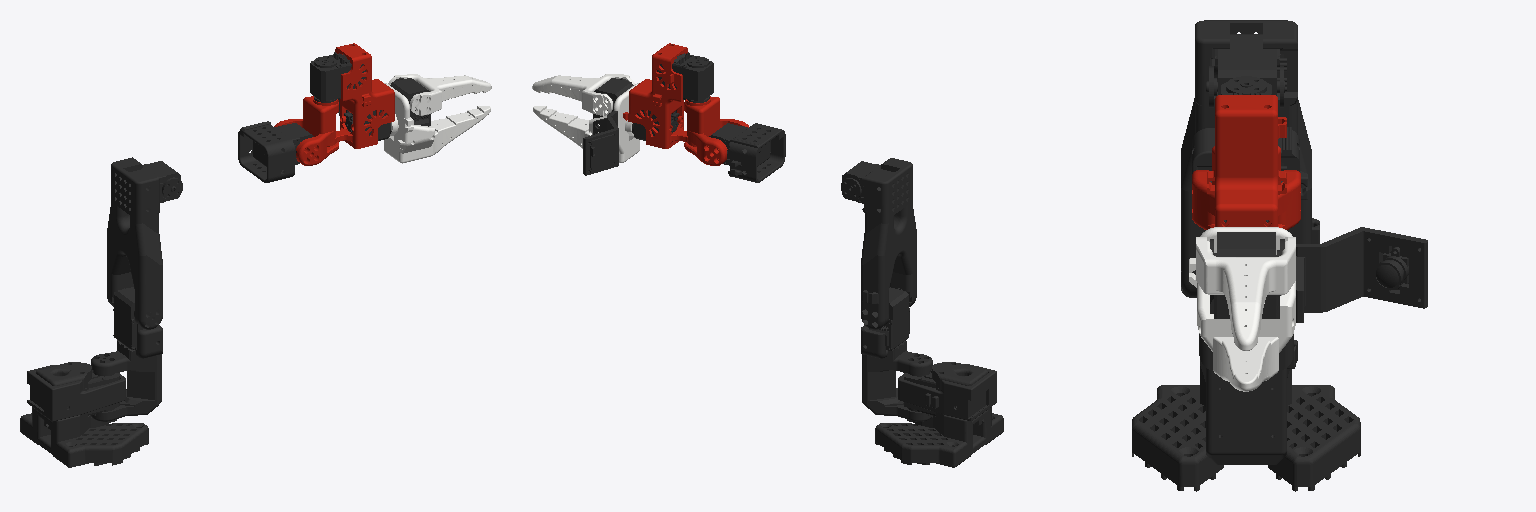
robot.urdf — so101_yaw:
<?xml version="1.0" ?>
<!-- Generated using onshape-to-robot -->
<!-- Onshape https://cad.onshape.com/documents/5c7655f7a10be258b255653e/w/9b7cf7340f5f742e2d847e84/e/661a4991913bb205efad3807 -->
<robot name="so101_yaw">
  <!-- Link base_so101_v2 -->
  <link name="base_so101_v2">
    <inertial>
      <origin rpy="0 0 0" xyz="-0.00654505 -0.0274557 0.034086"/>
      <mass value="0.151"/>
      <inertia ixx="0.00012688" ixy="-5.94796e-07" ixz="2.98671e-06" iyy="0.000135694" iyz="-6.97256e-08" izz="0.000132445"/>
    </inertial>
    <visual>
      <origin rpy="-1.89638e-16 -7.4744e-16 -3.26128e-15" xyz="0.00489886 -0.0272511 0.0461"/>
      <geometry>
        <mesh filename="assets/sts3215.stl"/>
      </geometry>
      <material name="sts3215_material">
        <color rgba="0.235294 0.235294 0.235294 1"/>
      </material>
    </visual>
    <collision>
      <origin rpy="-1.89638e-16 -7.4744e-16 -3.26128e-15" xyz="0.00489886 -0.0272511 0.0461"/>
      <geometry>
        <mesh filename="assets/sts3215.stl"/>
      </geometry>
    </collision>
    <visual>
      <origin rpy="1.5708 7.86155e-17 1.5708" xyz="-0.0275011 -0.0276006 1.33995e-16"/>
      <geometry>
        <mesh filename="assets/base_motor_holder_so101_v1.stl"/>
      </geometry>
      <material name="base_motor_holder_so101_v1_material">
        <color rgba="0.235294 0.235294 0.235294 1"/>
      </material>
    </visual>
    <collision>
      <origin rpy="1.5708 7.86155e-17 1.5708" xyz="-0.0275011 -0.0276006 1.33995e-16"/>
      <geometry>
        <mesh filename="assets/base_motor_holder_so101_v1.stl"/>
      </geometry>
    </collision>
    <visual>
      <origin rpy="1.5708 7.86155e-17 1.5708" xyz="-0.0275011 -0.0275011 7.15369e-17"/>
      <geometry>
        <mesh filename="assets/base_so101_v2.stl"/>
      </geometry>
      <material name="base_so101_v2_material">
        <color rgba="0.235294 0.235294 0.235294 1"/>
      </material>
    </visual>
    <collision>
      <origin rpy="1.5708 7.86155e-17 1.5708" xyz="-0.0275011 -0.0275011 7.15369e-17"/>
      <geometry>
        <mesh filename="assets/base_so101_v2.stl"/>
      </geometry>
    </collision>
  </link>
  <!-- Link rotation_pitch_so101_v1 -->
  <link name="rotation_pitch_so101_v1">
    <inertial>
      <origin rpy="0 0 0" xyz="0.0309888 5.41298e-05 -0.0231919"/>
      <mass value="0.102"/>
      <inertia ixx="9.02965e-05" ixy="7.51737e-08" ixz="1.45988e-06" iyy="8.80808e-05" iyz="-1.36387e-07" izz="2.50511e-05"/>
    </inertial>
    <visual>
      <origin rpy="-1.5708 -1.5708 0" xyz="0.0678 0.0002 0.0158499"/>
      <geometry>
        <mesh filename="assets/motor_holder_so101_base_v1.stl"/>
      </geometry>
      <material name="motor_holder_so101_base_v1_material">
        <color rgba="0.235294 0.235294 0.235294 1"/>
      </material>
    </visual>
    <collision>
      <origin rpy="-1.5708 -1.5708 0" xyz="0.0678 0.0002 0.0158499"/>
      <geometry>
        <mesh filename="assets/motor_holder_so101_base_v1.stl"/>
      </geometry>
    </collision>
    <visual>
      <origin rpy="-1.5708 -3.89251e-16 3.14159" xyz="-0.012 1.73472e-17 0.0464"/>
      <geometry>
        <mesh filename="assets/rotation_pitch_so101_v1.stl"/>
      </geometry>
      <material name="rotation_pitch_so101_v1_material">
        <color rgba="0.235294 0.235294 0.235294 1"/>
      </material>
    </visual>
    <collision>
      <origin rpy="-1.5708 -3.89251e-16 3.14159" xyz="-0.012 1.73472e-17 0.0464"/>
      <geometry>
        <mesh filename="assets/rotation_pitch_so101_v1.stl"/>
      </geometry>
    </collision>
    <visual>
      <origin rpy="-1.5708 1.5708 0" xyz="0.0306 -0.0004 -0.0417"/>
      <geometry>
        <mesh filename="assets/sts3215.stl"/>
      </geometry>
      <material name="sts3215_2_material">
        <color rgba="0.235294 0.235294 0.235294 1"/>
      </material>
    </visual>
    <collision>
      <origin rpy="-1.5708 1.5708 0" xyz="0.0306 -0.0004 -0.0417"/>
      <geometry>
        <mesh filename="assets/sts3215.stl"/>
      </geometry>
    </collision>
  </link>
  <!-- Link upper_arm_so101_v1 -->
  <link name="upper_arm_so101_v1">
    <inertial>
      <origin rpy="0 0 0" xyz="0.0875462 0.00769199 0.0183923"/>
      <mass value="0.106"/>
      <inertia ixx="4.29162e-05" ixy="-2.05885e-05" ixz="8.97322e-08" iyy="0.000159358" iyz="-1.79716e-08" izz="0.00015251"/>
    </inertial>
    <visual>
      <origin rpy="-3.14159 -1.11022e-16 1.5708" xyz="0.11257 0.0155 0.0187"/>
      <geometry>
        <mesh filename="assets/sts3215.stl"/>
      </geometry>
      <material name="sts3215_3_material">
        <color rgba="0.235294 0.235294 0.235294 1"/>
      </material>
    </visual>
    <collision>
      <origin rpy="-3.14159 -1.11022e-16 1.5708" xyz="0.11257 0.0155 0.0187"/>
      <geometry>
        <mesh filename="assets/sts3215.stl"/>
      </geometry>
    </collision>
    <visual>
      <origin rpy="3.14159 -1.11022e-16 -3.14159" xyz="0.065085 -0.012 0.0182"/>
      <geometry>
        <mesh filename="assets/upper_arm_so101_v1.stl"/>
      </geometry>
      <material name="upper_arm_so101_v1_material">
        <color rgba="0.235294 0.235294 0.235294 1"/>
      </material>
    </visual>
    <collision>
      <origin rpy="3.14159 -1.11022e-16 -3.14159" xyz="0.065085 -0.012 0.0182"/>
      <geometry>
        <mesh filename="assets/upper_arm_so101_v1.stl"/>
      </geometry>
    </collision>
  </link>
  <!-- Link under_arm_so101_v1 -->
  <link name="under_arm_so101_v1">
    <inertial>
      <origin rpy="0 0 0" xyz="0.0953096 -0.00302426 0.0182473"/>
      <mass value="0.11"/>
      <inertia ixx="3.24107e-05" ixy="8.01383e-06" ixz="-1.40404e-06" iyy="0.000176111" iyz="4.66378e-08" izz="0.000159352"/>
    </inertial>
    <visual>
      <origin rpy="-3.14159 -8.3322e-16 3.14159" xyz="0.0648499 0.032 0.0182"/>
      <geometry>
        <mesh filename="assets/under_arm_so101_v1.stl"/>
      </geometry>
      <material name="under_arm_so101_v1_material">
        <color rgba="0.235294 0.235294 0.235294 1"/>
      </material>
    </visual>
    <collision>
      <origin rpy="-3.14159 -8.3322e-16 3.14159" xyz="0.0648499 0.032 0.0182"/>
      <geometry>
        <mesh filename="assets/under_arm_so101_v1.stl"/>
      </geometry>
    </collision>
    <visual>
      <origin rpy="3.14159 1.38833e-15 -7.17499e-14" xyz="0.1224 -0.0052 0.0187"/>
      <geometry>
        <mesh filename="assets/sts3215.stl"/>
      </geometry>
      <material name="sts3215_4_material">
        <color rgba="0.235294 0.235294 0.235294 1"/>
      </material>
    </visual>
    <collision>
      <origin rpy="3.14159 1.38833e-15 -7.17499e-14" xyz="0.1224 -0.0052 0.0187"/>
      <geometry>
        <mesh filename="assets/sts3215.stl"/>
      </geometry>
    </collision>
    <visual>
      <origin rpy="-3.14159 -1.15366e-15 3.14159" xyz="0.0648499 0.032 0.018"/>
      <geometry>
        <mesh filename="assets/motor_holder_so101_wrist_v1.stl"/>
      </geometry>
      <material name="motor_holder_so101_wrist_v1_material">
        <color rgba="0.235294 0.235294 0.235294 1"/>
      </material>
    </visual>
    <collision>
      <origin rpy="-3.14159 -1.15366e-15 3.14159" xyz="0.0648499 0.032 0.018"/>
      <geometry>
        <mesh filename="assets/motor_holder_so101_wrist_v1.stl"/>
      </geometry>
    </collision>
  </link>
  <!-- Link wrist_yaw_back_v2 -->
  <link name="wrist_yaw_back_v2">
    <inertial>
      <origin rpy="0 0 0" xyz="0.0170191 -0.00963991 0.0183001"/>
      <mass value="0.02"/>
      <inertia ixx="8.43061e-06" ixy="1.40805e-06" ixz="3.45132e-11" iyy="6.67798e-06" iyz="-5.27682e-11" izz="6.60703e-06"/>
    </inertial>
    <visual>
      <origin rpy="-1.5708 2.71835e-16 -3.14159" xyz="-8.32667e-17 2.77556e-17 0.0183"/>
      <geometry>
        <mesh filename="assets/wrist_yaw_back_v2.stl"/>
      </geometry>
      <material name="wrist_yaw_back_v2_material">
        <color rgba="0.756863 0.180392 0.121569 1"/>
      </material>
    </visual>
    <collision>
      <origin rpy="-1.5708 2.71835e-16 -3.14159" xyz="-8.32667e-17 2.77556e-17 0.0183"/>
      <geometry>
        <mesh filename="assets/wrist_yaw_back_v2.stl"/>
      </geometry>
    </collision>
  </link>
  <!-- Link wrist_yaw_front_v2 -->
  <link name="wrist_yaw_front_v2">
    <inertial>
      <origin rpy="0 0 0" xyz="-0.0288469 3.2095e-05 0.00318547"/>
      <mass value="0.14"/>
      <inertia ixx="9.23015e-05" ixy="4.59386e-08" ixz="3.54146e-05" iyy="0.000129134" iyz="2.4354e-08" izz="5.50963e-05"/>
    </inertial>
    <visual>
      <origin rpy="-9.1624e-32 1.59776e-24 2.1032e-30" xyz="-0.0125 0 -0.0187"/>
      <geometry>
        <mesh filename="assets/sts3215.stl"/>
      </geometry>
      <material name="sts3215_5_material">
        <color rgba="0.235294 0.235294 0.235294 1"/>
      </material>
    </visual>
    <collision>
      <origin rpy="-9.1624e-32 1.59776e-24 2.1032e-30" xyz="-0.0125 0 -0.0187"/>
      <geometry>
        <mesh filename="assets/sts3215.stl"/>
      </geometry>
    </collision>
    <visual>
      <origin rpy="8.70125e-30 -1.5708 0" xyz="-0.0428 3.08781e-16 0.025043"/>
      <geometry>
        <mesh filename="assets/sts3215.stl"/>
      </geometry>
      <material name="sts3215_6_material">
        <color rgba="0.235294 0.235294 0.235294 1"/>
      </material>
    </visual>
    <collision>
      <origin rpy="8.70125e-30 -1.5708 0" xyz="-0.0428 3.08781e-16 0.025043"/>
      <geometry>
        <mesh filename="assets/sts3215.stl"/>
      </geometry>
    </collision>
    <visual>
      <origin rpy="-3.14159 1.28026e-16 -3.14159" xyz="-0.0283 1.17961e-16 0.0037965"/>
      <geometry>
        <mesh filename="assets/wrist_yaw_front_v2.stl"/>
      </geometry>
      <material name="wrist_yaw_front_v2_material">
        <color rgba="0.756863 0.180392 0.121569 1"/>
      </material>
    </visual>
    <collision>
      <origin rpy="-3.14159 1.28026e-16 -3.14159" xyz="-0.0283 1.17961e-16 0.0037965"/>
      <geometry>
        <mesh filename="assets/wrist_yaw_front_v2.stl"/>
      </geometry>
    </collision>
  </link>
  <!-- Link gripper_body -->
  <link name="gripper_body">
    <inertial>
      <origin rpy="0 0 0" xyz="-0.000636413 -0.00019243 -0.02101"/>
      <mass value="0.086"/>
      <inertia ixx="1.74109e-05" ixy="-2.64933e-07" ixz="-4.56581e-08" iyy="3.13894e-05" iyz="-1.1459e-07" izz="3.52206e-05"/>
    </inertial>
    <visual>
      <origin rpy="3.14159 8.40848e-16 -3.14009" xyz="-3.27883e-07 0.000218214 0.000949706"/>
      <geometry>
        <mesh filename="assets/wrist_roll_follower_so101_v1.stl"/>
      </geometry>
      <material name="wrist_roll_follower_so101_v1_material">
        <color rgba="0.964706 0.964706 0.952941 1"/>
      </material>
    </visual>
    <collision>
      <origin rpy="3.14159 8.40848e-16 -3.14009" xyz="-3.27883e-07 0.000218214 0.000949706"/>
      <geometry>
        <mesh filename="assets/wrist_roll_follower_so101_v1.stl"/>
      </geometry>
    </collision>
    <visual>
      <origin rpy="-1.5708 8.40848e-16 -3.14009" xyz="-0.00770014 8.84301e-05 -0.0234"/>
      <geometry>
        <mesh filename="assets/sts3215.stl"/>
      </geometry>
      <material name="sts3215_7_material">
        <color rgba="0.235294 0.235294 0.235294 1"/>
      </material>
    </visual>
    <collision>
      <origin rpy="-1.5708 8.40848e-16 -3.14009" xyz="-0.00770014 8.84301e-05 -0.0234"/>
      <geometry>
        <mesh filename="assets/sts3215.stl"/>
      </geometry>
    </collision>
  </link>
  <!-- Link moving_jaw_so101_v1 -->
  <link name="moving_jaw_so101_v1">
    <inertial>
      <origin rpy="0 0 0" xyz="-0.000643301 -0.0295336 0.0192755"/>
      <mass value="0.013"/>
      <inertia ixx="7.16516e-06" ixy="-3.48625e-07" ixz="-6.44988e-09" iyy="2.04814e-06" iyz="-1.19105e-07" izz="5.72799e-06"/>
    </inertial>
    <visual>
      <origin rpy="1.26318e-15 2.09969e-14 -0.000423662" xyz="0.000944371 0.000490203 0.0189"/>
      <geometry>
        <mesh filename="assets/moving_jaw_so101_v1.stl"/>
      </geometry>
      <material name="moving_jaw_so101_v1_material">
        <color rgba="0.964706 0.964706 0.952941 1"/>
      </material>
    </visual>
    <collision>
      <origin rpy="1.26318e-15 2.09969e-14 -0.000423662" xyz="0.000944371 0.000490203 0.0189"/>
      <geometry>
        <mesh filename="assets/moving_jaw_so101_v1.stl"/>
      </geometry>
    </collision>
  </link>
  <!-- Link camera_mount -->
  <link name="camera_mount">
    <inertial>
      <origin rpy="0 0 0" xyz="-0.0224746 -0.00102293 -0.0255423"/>
      <mass value="0.012"/>
      <inertia ixx="5.52533e-06" ixy="9.51953e-08" ixz="-1.32316e-06" iyy="5.31978e-06" iyz="1.20372e-07" izz="2.25715e-06"/>
    </inertial>
    <visual>
      <origin rpy="-1.5708 -1.5708 0" xyz="0.00815 -0.0181 -2.1684e-18"/>
      <geometry>
        <mesh filename="assets/camera_mount.stl"/>
      </geometry>
      <material name="camera_mount_material">
        <color rgba="0.235294 0.235294 0.235294 1"/>
      </material>
    </visual>
    <collision>
      <origin rpy="-1.5708 -1.5708 0" xyz="0.00815 -0.0181 -2.1684e-18"/>
      <geometry>
        <mesh filename="assets/camera_mount.stl"/>
      </geometry>
    </collision>
  </link>
  <!-- Link camera_body -->
  <link name="camera_body">
    <inertial>
      <origin rpy="0 0 0" xyz="0 0 0"/>
      <mass value="1e-09"/>
      <inertia ixx="1e-09" ixy="0" ixz="0" iyy="1e-09" iyz="0" izz="1e-09"/>
    </inertial>
    <visual>
      <origin rpy="1.5708 -7.23838e-20 1.5708" xyz="0 -0.0495931 -0.000795328"/>
      <geometry>
        <mesh filename="assets/camera_uvc_25x32.stl"/>
      </geometry>
      <material name="camera_uvc_25x32_material">
        <color rgba="0.235294 0.235294 0.235294 1"/>
      </material>
    </visual>
    <collision>
      <origin rpy="1.5708 -7.23838e-20 1.5708" xyz="0 -0.0495931 -0.000795328"/>
      <geometry>
        <mesh filename="assets/camera_uvc_25x32.stl"/>
      </geometry>
    </collision>
  </link>
  <!-- Link camera -->
  <link name="camera">
    <inertial>
      <origin rpy="0 0 0" xyz="0 0 0"/>
      <mass value="1e-9"/>
      <inertia ixx="0" ixy="0" ixz="0" iyy="0" iyz="0" izz="0"/>
    </inertial>
  </link>
  <!-- Link gripper_finger -->
  <link name="gripper_finger">
    <inertial>
      <origin rpy="0 0 0" xyz="0.0141183 3.81789e-08 -0.0214088"/>
      <mass value="0.031"/>
      <inertia ixx="9.74177e-06" ixy="4.91362e-12" ixz="1.93091e-06" iyy="9.76828e-06" iyz="7.01388e-12" izz="2.30933e-06"/>
    </inertial>
    <visual>
      <origin rpy="-3.14159 6.05824e-16 3.64596e-16" xyz="0.0352 -4.66814e-14 0.038"/>
      <geometry>
        <mesh filename="assets/wrist_roll_follower_so101_v1__2.stl"/>
      </geometry>
      <material name="wrist_roll_follower_so101_v1_2_material">
        <color rgba="0.964706 0.964706 0.952941 1"/>
      </material>
    </visual>
    <collision>
      <origin rpy="-3.14159 6.05824e-16 3.64596e-16" xyz="0.0352 -4.66814e-14 0.038"/>
      <geometry>
        <mesh filename="assets/wrist_roll_follower_so101_v1__2.stl"/>
      </geometry>
    </collision>
  </link>

  <!-- Joints -->
  <joint name="joint7" type="revolute">
    <origin rpy="1.5708 8.40848e-16 -3.14009" xyz="-0.020172 -0.0186303 -0.0234"/>
    <parent link="gripper_body"/>
    <child link="moving_jaw_so101_v1"/>
    <axis xyz="0 0 1"/>
    <limit effort="10" lower="-0.174109" upper="1.74575" velocity="10"/>
  </joint>
  <joint name="camera_frame" type="fixed">
    <origin rpy="7.23838e-20 -2.65658e-17 1.24493e-19" xyz="0.0134 0.000203456 -0.000397664"/>
    <parent link="camera_body"/>
    <child link="camera"/>
  </joint>
  <joint name="camera_joint" type="fixed">
    <origin rpy="3.14159 -0.436332 5.4113e-20" xyz="-0.0299654 -0.0006 -0.0493488"/>
    <parent link="camera_mount"/>
    <child link="camera_body"/>
  </joint>
  <joint name="camera_mount_joint" type="fixed">
    <origin rpy="-1.5723 1.5708 0" xyz="-0.00306393 -0.0240046 -0.0234002"/>
    <parent link="gripper_body"/>
    <child link="camera_mount"/>
  </joint>
  <joint name="joint8" type="fixed">
    <origin rpy="-1.0267e-14 8.40848e-16 -3.14009" xyz="0.0351996 0.000271105 -0.0370503"/>
    <parent link="gripper_body"/>
    <child link="gripper_finger"/>
  </joint>
  <joint name="joint6" type="revolute">
    <origin rpy="-3.14159 -1.5708 0" xyz="-0.0615 3.05311e-16 0.037543"/>
    <parent link="wrist_yaw_front_v2"/>
    <child link="gripper_body"/>
    <axis xyz="0 0 1"/>
    <limit effort="10" lower="-2.96856" upper="2.86084" velocity="10"/>
  </joint>
  <joint name="joint5" type="revolute">
    <origin rpy="1.5708 4.20225e-14 -3.14159" xyz="0.029 -0.0359 0.0183"/>
    <parent link="wrist_yaw_back_v2"/>
    <child link="wrist_yaw_front_v2"/>
    <axis xyz="0 0 1"/>
    <limit effort="10" lower="-1.53589" upper="1.53589" velocity="10"/>
  </joint>
  <joint name="joint4" type="revolute">
    <origin rpy="-1.01607e-15 1.38833e-15 -7.17499e-14" xyz="0.1349 -0.0052 7.84095e-16"/>
    <parent link="under_arm_so101_v1"/>
    <child link="wrist_yaw_back_v2"/>
    <axis xyz="0 0 1"/>
    <limit effort="10" lower="-1.46608" upper="1.64061" velocity="10"/>
  </joint>
  <joint name="joint3" type="revolute">
    <origin rpy="8.52564e-24 -1.11022e-16 1.5708" xyz="0.11257 0.028 -1.31839e-16"/>
    <parent link="upper_arm_so101_v1"/>
    <child link="under_arm_so101_v1"/>
    <axis xyz="0 0 1"/>
    <limit effort="10" lower="-1.68948" upper="1.5708" velocity="10"/>
  </joint>
  <joint name="joint2" type="revolute">
    <origin rpy="1.5708 1.5708 0" xyz="0.0306 0.0183 -0.0542"/>
    <parent link="rotation_pitch_so101_v1"/>
    <child link="upper_arm_so101_v1"/>
    <axis xyz="0 0 1"/>
    <limit effort="10" lower="-1.74533" upper="1.74533" velocity="10"/>
  </joint>
  <joint name="joint1" type="revolute">
    <origin rpy="3.14159 -7.4744e-16 -3.26128e-15" xyz="0.0173989 -0.0272511 0.0648"/>
    <parent link="base_so101_v2"/>
    <child link="rotation_pitch_so101_v1"/>
    <axis xyz="0 0 1"/>
    <limit effort="10" lower="-1.91986" upper="1.91986" velocity="10"/>
  </joint>
</robot>

--- What the picture shows (computed from the rendered views, not written in the file) ---
The picture shows the robot from 3 angles, left to right: view 1: azimuth 30°, elevation 25°; view 2: azimuth 150°, elevation 25°; view 3: azimuth 270°, elevation 25°; orthographic projection.
Model so101_yaw with 12 links and 11 joints (7 revolute, 4 fixed), rooted at base_so101_v2, posed all joints at 0.
Links seen in each view (by area): view 1: base_so101_v2, upper_arm_so101_v1, wrist_yaw_front_v2, rotation_pitch_so101_v1, under_arm_so101_v1, gripper_body, wrist_yaw_back_v2, moving_jaw_so101_v1, gripper_finger; view 2: base_so101_v2, upper_arm_so101_v1, wrist_yaw_front_v2, rotation_pitch_so101_v1, under_arm_so101_v1, wrist_yaw_back_v2, moving_jaw_so101_v1, gripper_body, gripper_finger, camera_mount, camera_body; view 3: base_so101_v2, upper_arm_so101_v1, wrist_yaw_front_v2, camera_mount, rotation_pitch_so101_v1, moving_jaw_so101_v1, gripper_body, gripper_finger, wrist_yaw_back_v2, under_arm_so101_v1, camera_body.
Boxes of the visible links, x1,y1,x2,y2 form: base_so101_v2: (20, 362, 148, 467); upper_arm_so101_v1: (107, 157, 182, 329); wrist_yaw_front_v2: (310, 43, 394, 148); rotation_pitch_so101_v1: (91, 287, 162, 421); under_arm_so101_v1: (238, 121, 313, 182); gripper_body: (384, 78, 434, 163); wrist_yaw_back_v2: (274, 96, 338, 165); moving_jaw_so101_v1: (388, 74, 491, 115); gripper_finger: (431, 106, 490, 154); base_so101_v2: (875, 362, 1003, 467); upper_arm_so101_v1: (841, 158, 916, 329); wrist_yaw_front_v2: (623, 43, 713, 148); rotation_pitch_so101_v1: (861, 287, 932, 421); under_arm_so101_v1: (709, 123, 785, 182); wrist_yaw_back_v2: (684, 96, 748, 165); moving_jaw_so101_v1: (532, 74, 634, 115); gripper_body: (589, 78, 639, 162); gripper_finger: (533, 106, 588, 148); camera_mount: (583, 111, 618, 175); camera_body: (590, 134, 613, 172); base_so101_v2: (1132, 340, 1360, 491); upper_arm_so101_v1: (1181, 20, 1319, 297); wrist_yaw_front_v2: (1207, 76, 1286, 226); camera_mount: (1296, 227, 1427, 322); rotation_pitch_so101_v1: (1199, 334, 1293, 464); moving_jaw_so101_v1: (1196, 237, 1295, 350); gripper_body: (1189, 227, 1295, 352); gripper_finger: (1213, 337, 1278, 391); wrist_yaw_back_v2: (1192, 146, 1300, 229); under_arm_so101_v1: (1192, 127, 1307, 199); camera_body: (1374, 246, 1408, 289).
Size in the robot's own frame: 0.4546 by 0.1438 by 0.3127 metres.
Meshes: 15 distinct files referenced, 19 mesh visuals loaded (13 binary STL); not drawn: 2 (reference not matched to a file when rendering).
